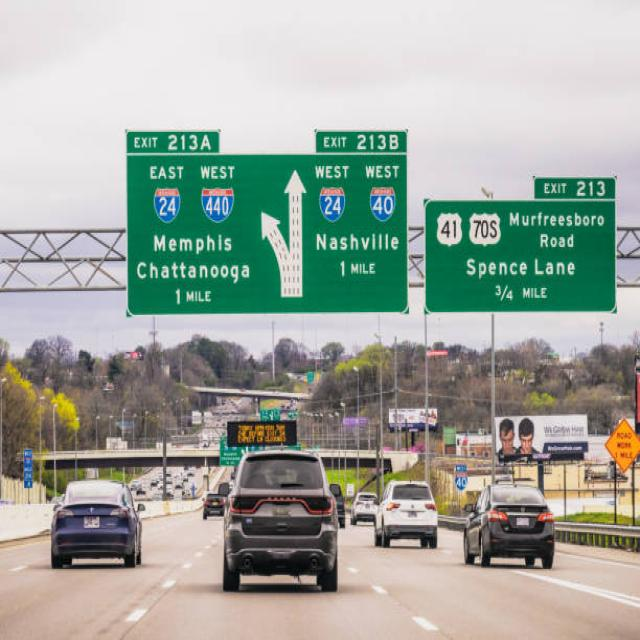Billboard_overhead: (121, 119, 412, 310), (421, 165, 620, 316)
Billboard_overhead_small: (217, 399, 305, 447)
Billboard_small: (493, 410, 592, 468), (387, 401, 439, 438), (20, 436, 34, 489)
Roadcorner: (570, 527, 639, 585)
Roadlane: (106, 520, 220, 633), (345, 552, 472, 639)
